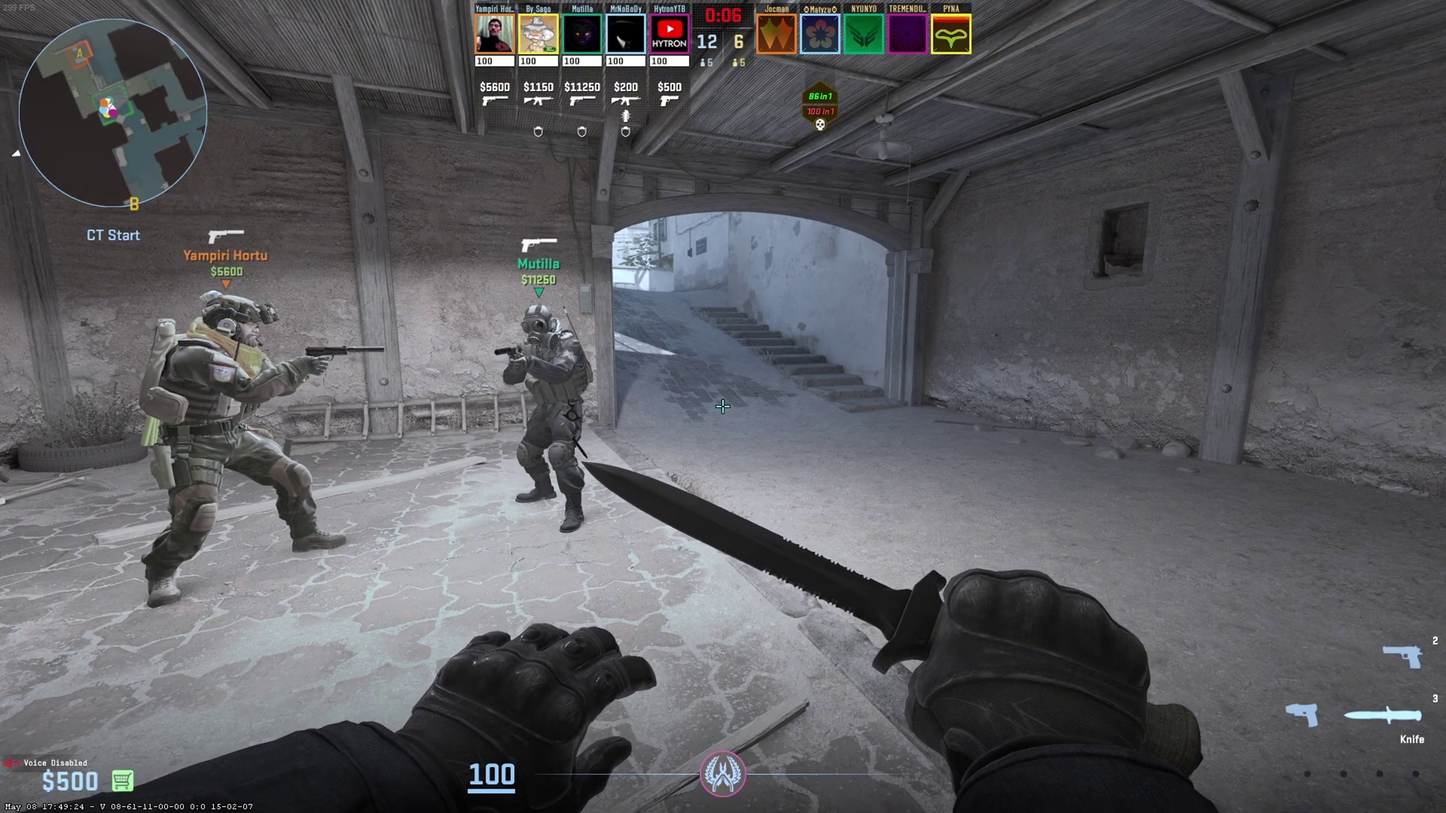CT: (141, 290, 346, 605), (506, 304, 585, 532)
